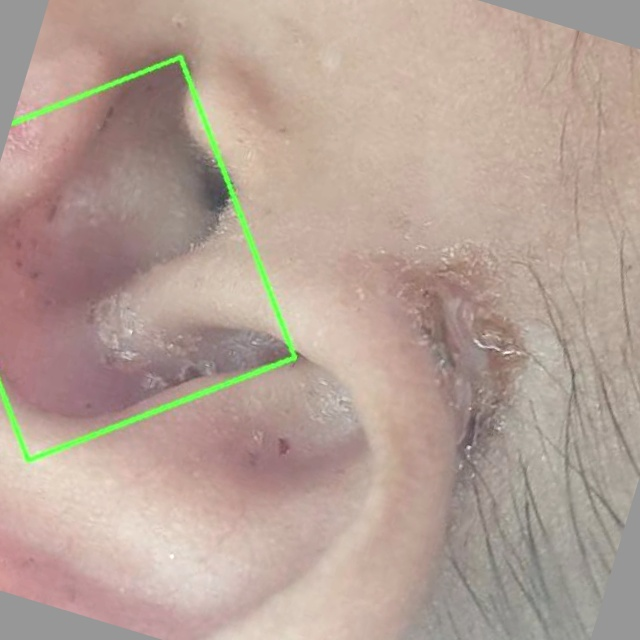Eczema: (0, 47, 304, 459)
